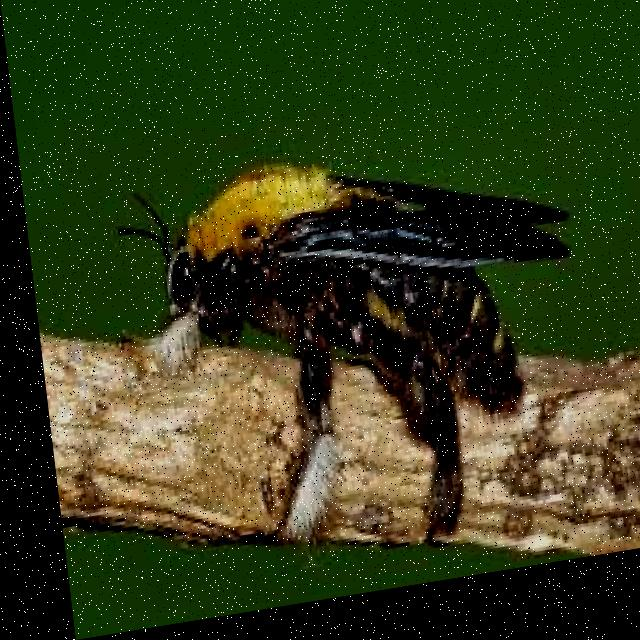Xylocopa: (100, 117, 550, 542)
